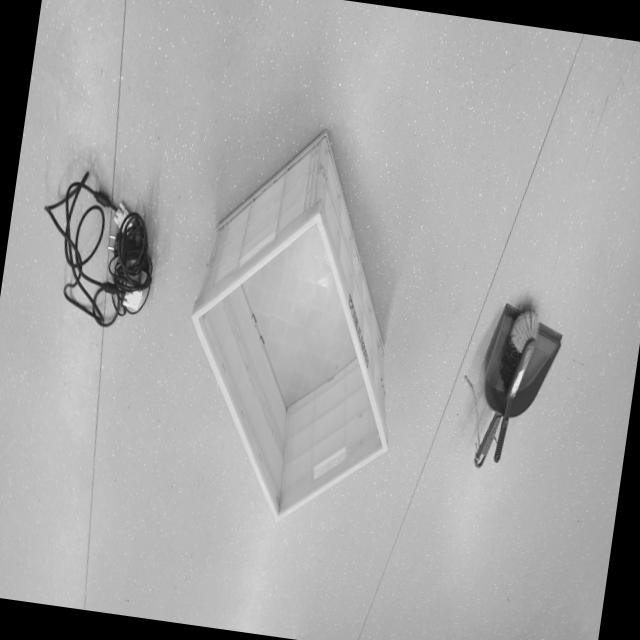box: (145, 87, 438, 562)
